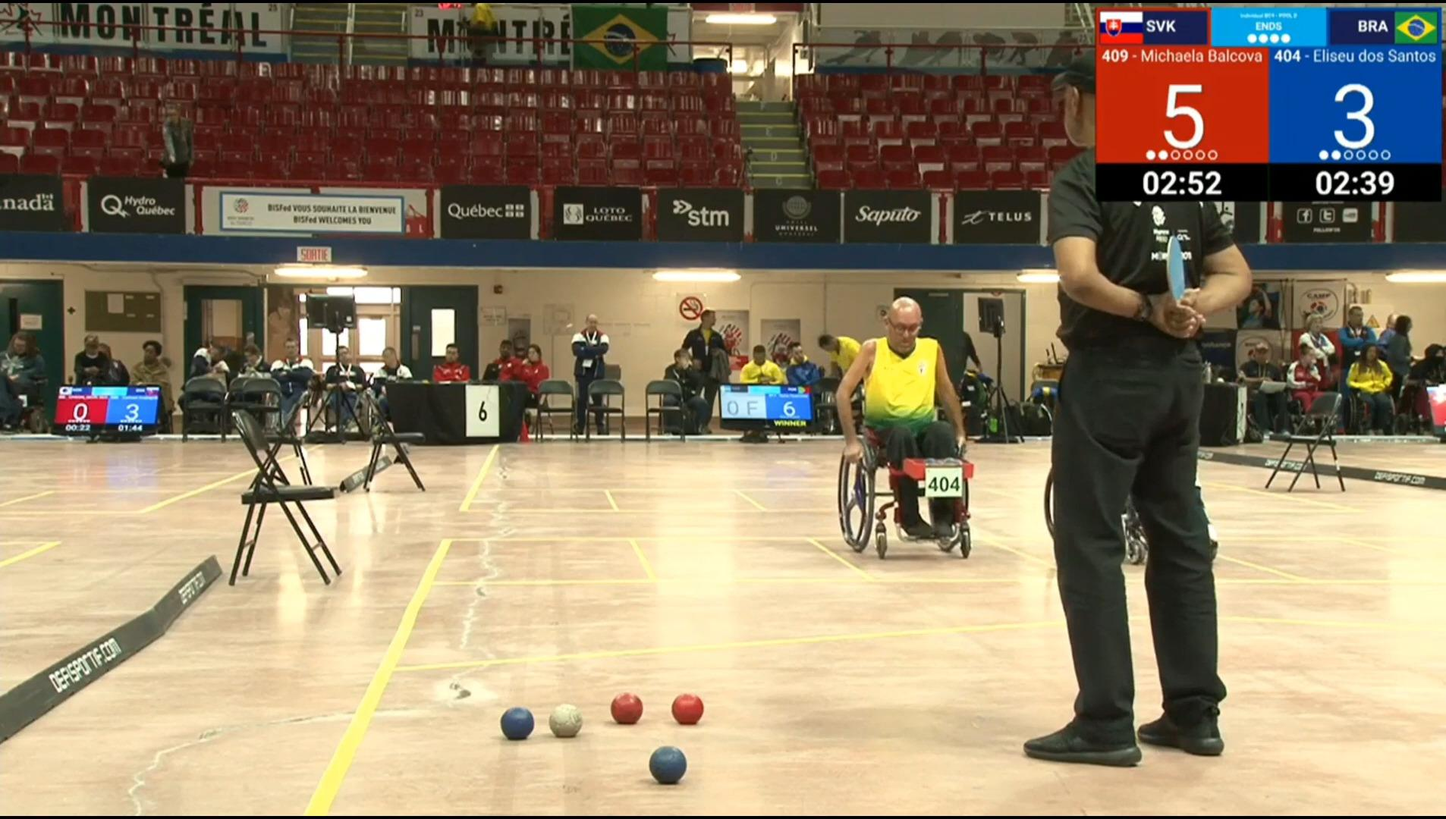blue_ball: (646, 743, 690, 787), (497, 705, 538, 743)
red_ball: (668, 689, 707, 729), (609, 691, 645, 728)
white_ball: (546, 701, 585, 740)
